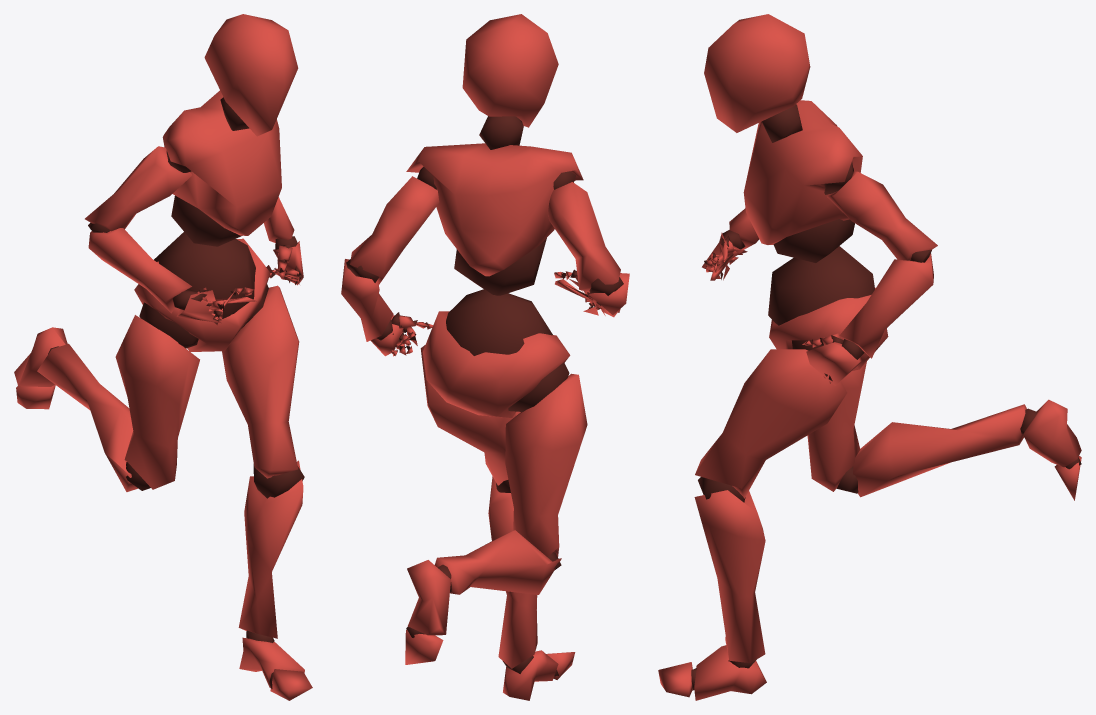
The picture shows the model from 3 angles, left to right: view 1: azimuth 30°, elevation 25°; view 2: azimuth 150°, elevation 25°; view 3: azimuth 270°, elevation 25°; orthographic projection. The views are drawn at different scales.
Visible parts, largest first — view 1: Beta_Surface.001; view 2: Beta_Surface.001; view 3: Beta_Surface.001.
Boxes of the visible parts, <box> form: Beta_Surface.001: <box>14,14,312,700</box>; Beta_Surface.001: <box>341,14,629,700</box>; Beta_Surface.001: <box>658,14,1081,700</box>.
Size of the model in its own units: 5.39 by 14.78 by 8.39.
